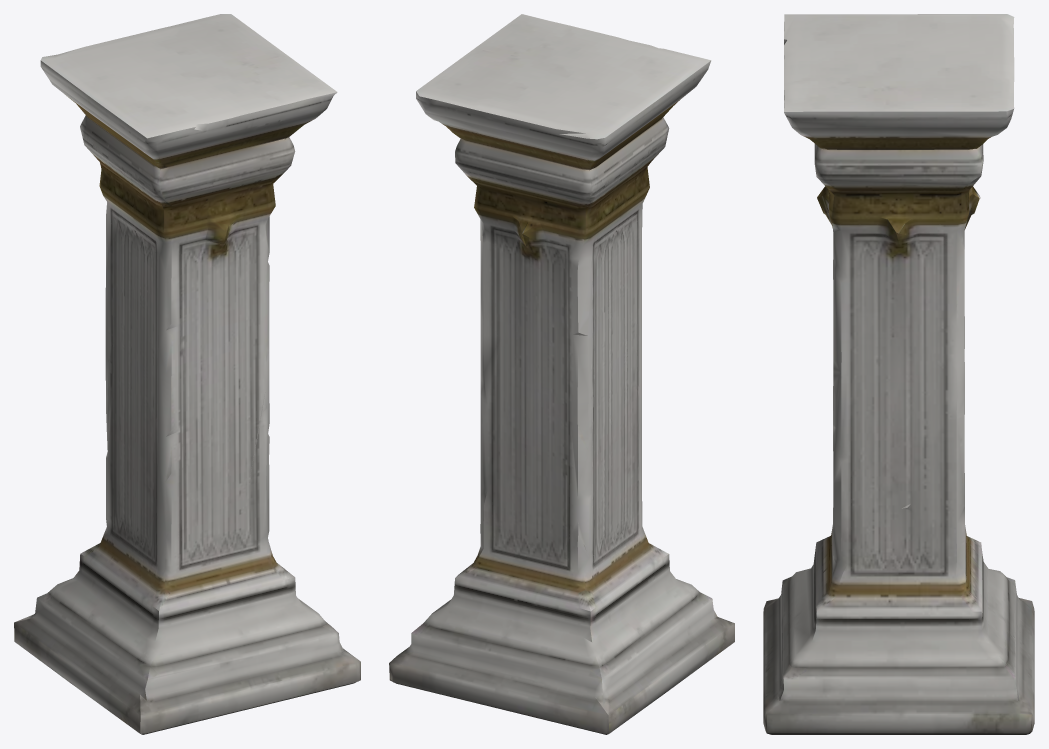
The model's file is town_pier_lod.glb.
3 views of the same model, side by side, from view 1: azimuth 30°, elevation 25°; view 2: azimuth 150°, elevation 25°; view 3: azimuth 270°, elevation 25° (orthographic). The views are drawn at different scales.
Visible parts, largest first — view 1: town_pier; view 2: town_pier; view 3: town_pier.
Boxes of the visible parts, x1,y1,x2,y2 form: town_pier: [14, 14, 360, 734]; town_pier: [389, 14, 734, 734]; town_pier: [763, 14, 1034, 734].
Size of the model in its own units: 3.26 by 8.2 by 3.25.
1 material, 1 textured.
